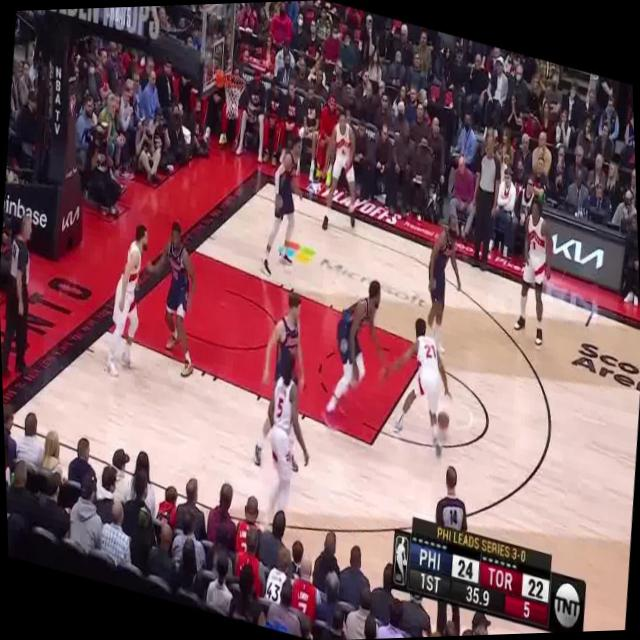ball-handler: (380, 300, 462, 465)
